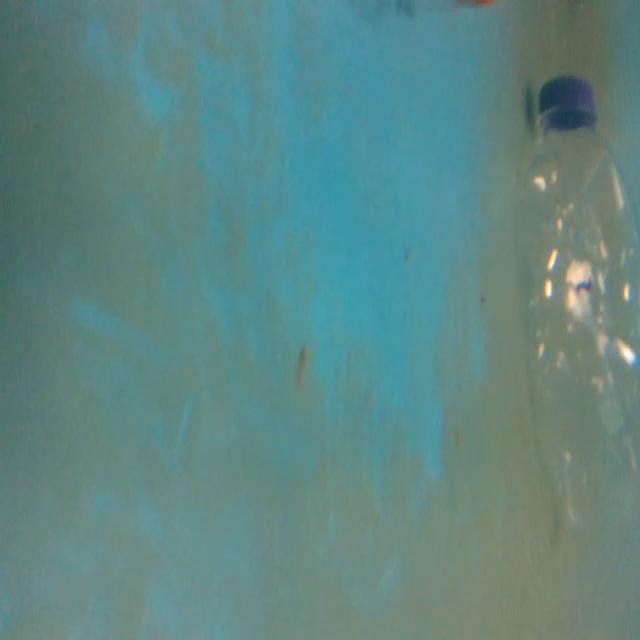plastic bottle: (517, 60, 640, 528)
